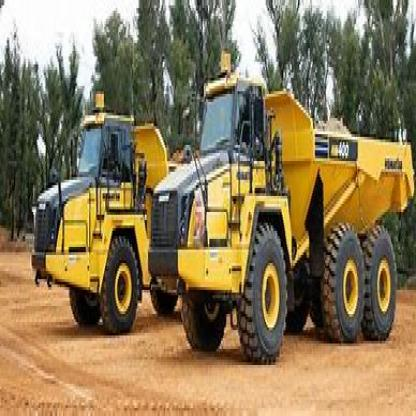dump_truck: (146, 48, 415, 365), (20, 72, 156, 357)
